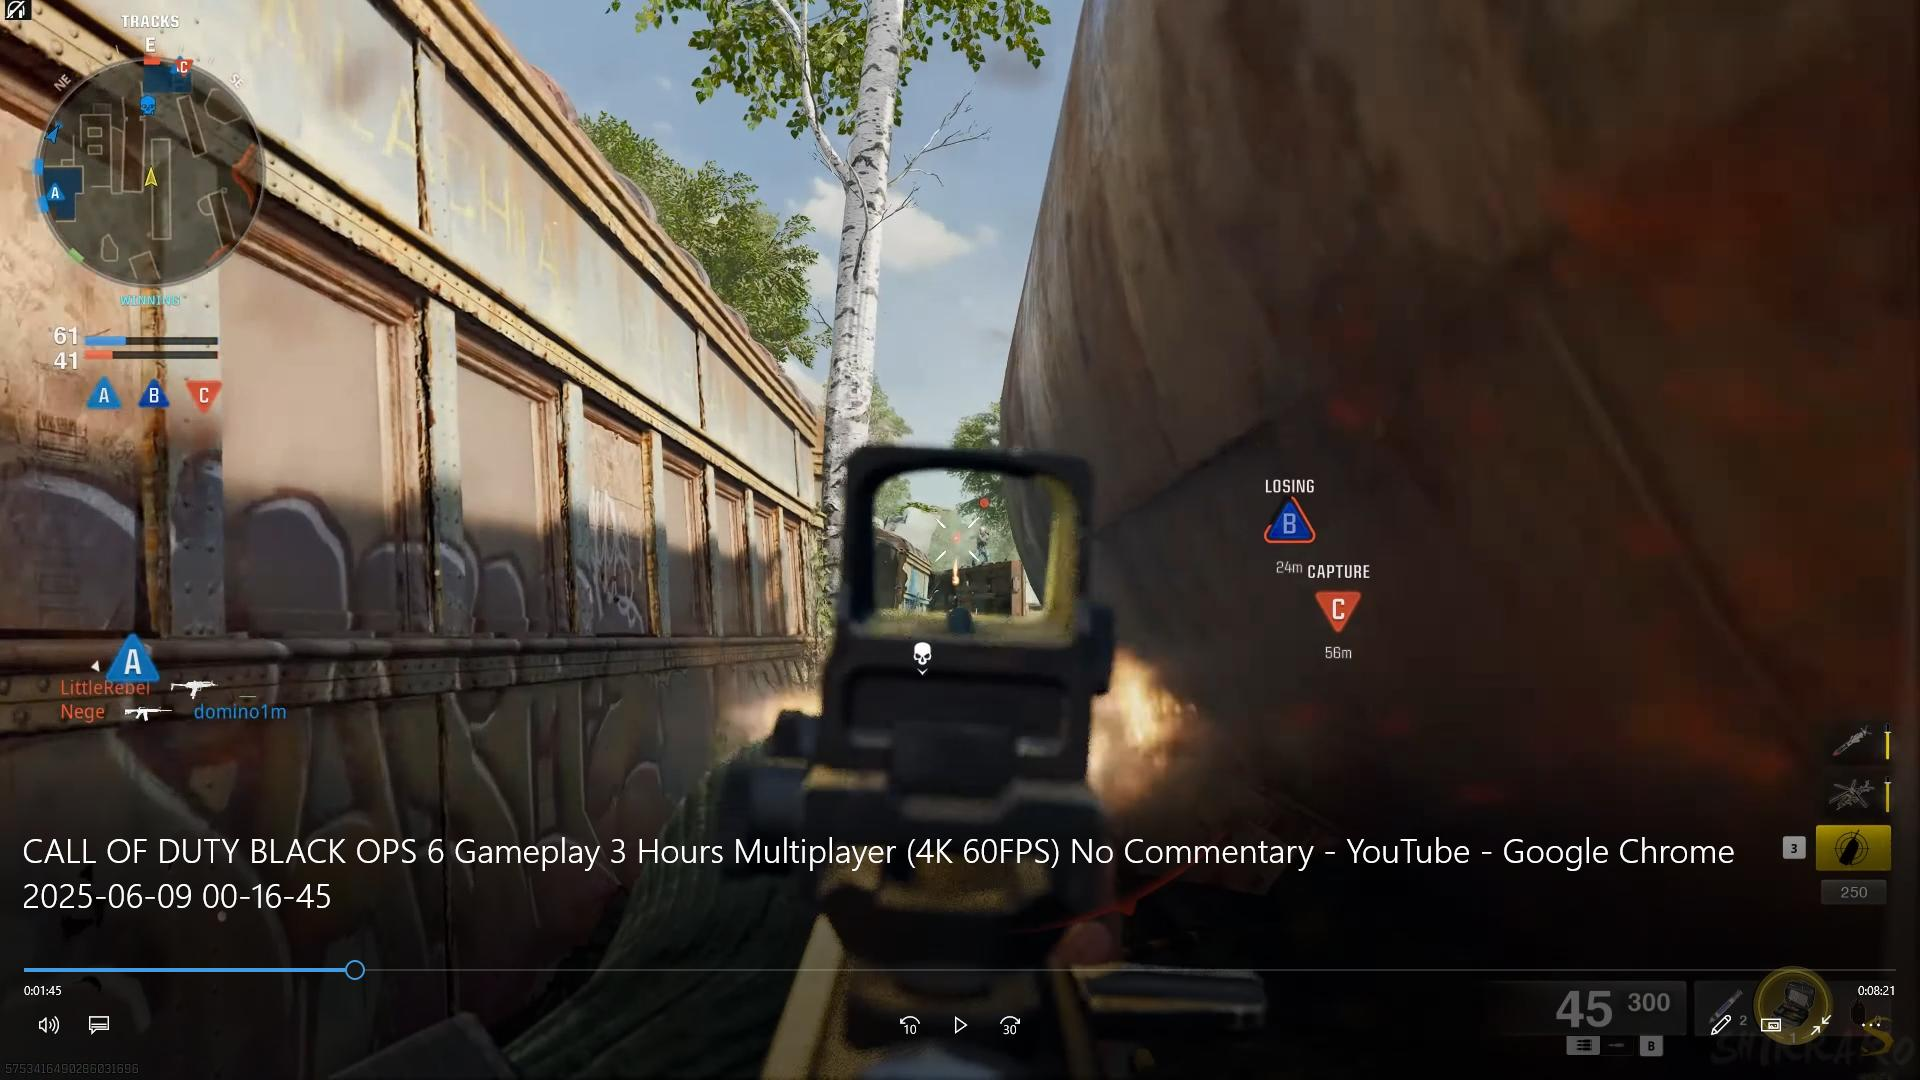Enemy: (963, 522, 998, 567)
